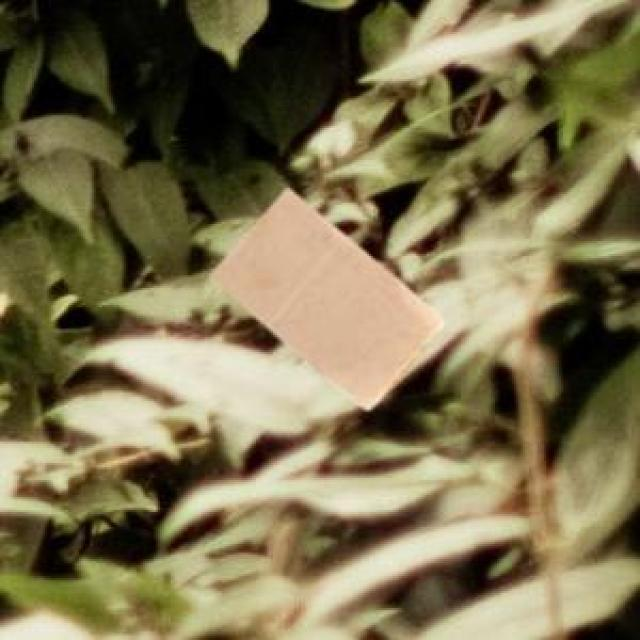paper: (207, 186, 440, 405)
